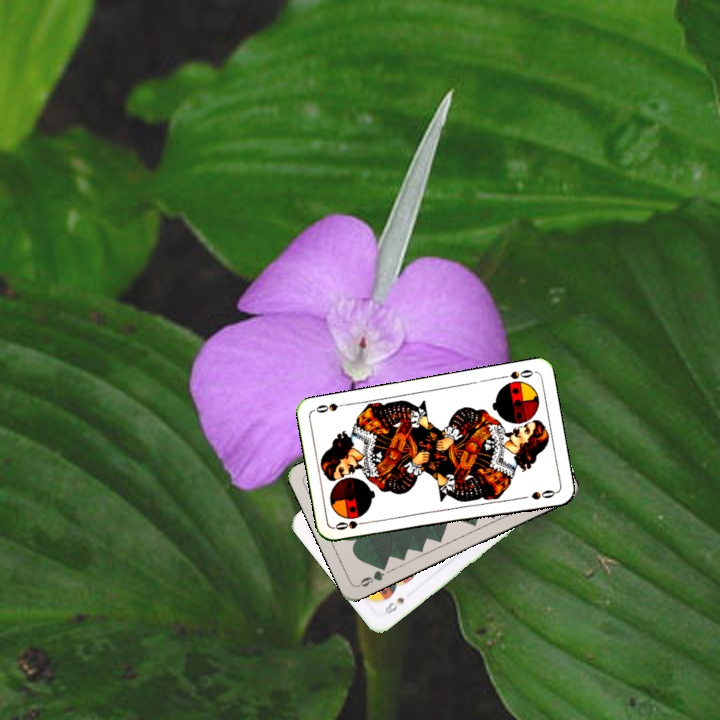G9: (354, 560, 389, 589)
S8: (379, 593, 407, 617)
SO: (331, 516, 372, 533), (497, 366, 537, 382)
